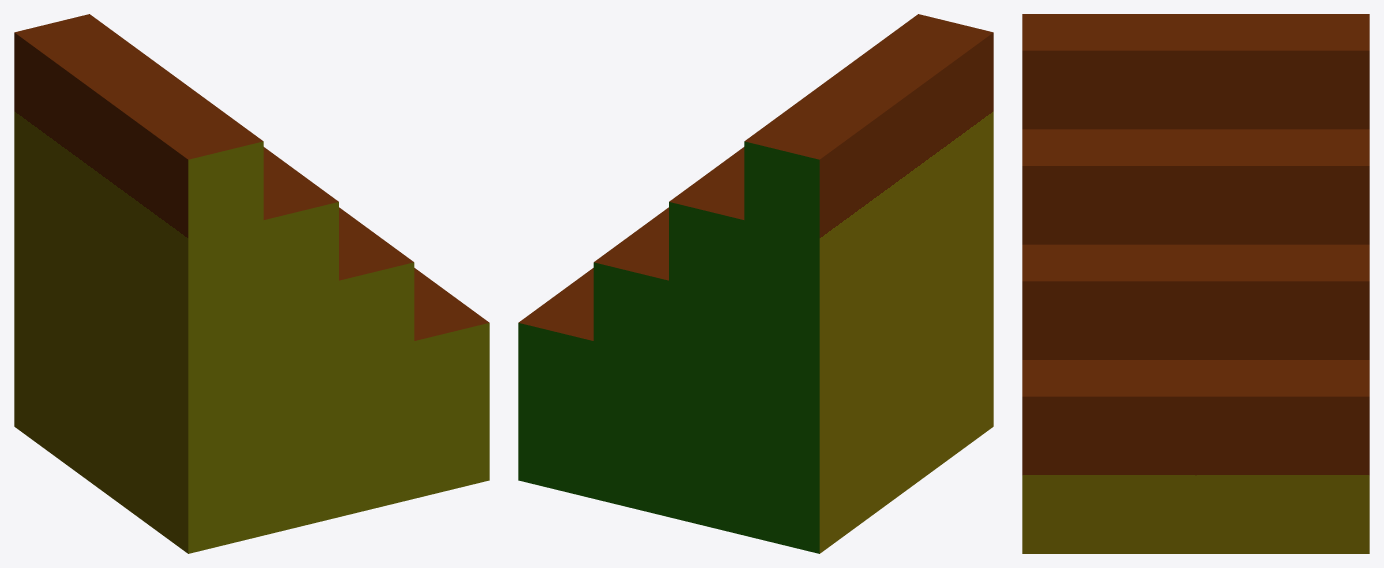
Rendered from block_11.fbx.
The picture shows the model from 3 angles, left to right: view 1: azimuth 30°, elevation 25°; view 2: azimuth 150°, elevation 25°; view 3: azimuth 270°, elevation 25°; orthographic projection.
Visible parts, largest first — view 1: Box; view 2: Box; view 3: Box.
Part boxes in pixels (left/top/right/bottom): Box: left=14, top=14, right=489, bottom=553; Box: left=518, top=14, right=993, bottom=553; Box: left=1022, top=14, right=1369, bottom=553.
Size of the model in its own units: 400 by 500 by 400.
Materials: 1 (1 with a texture image).
